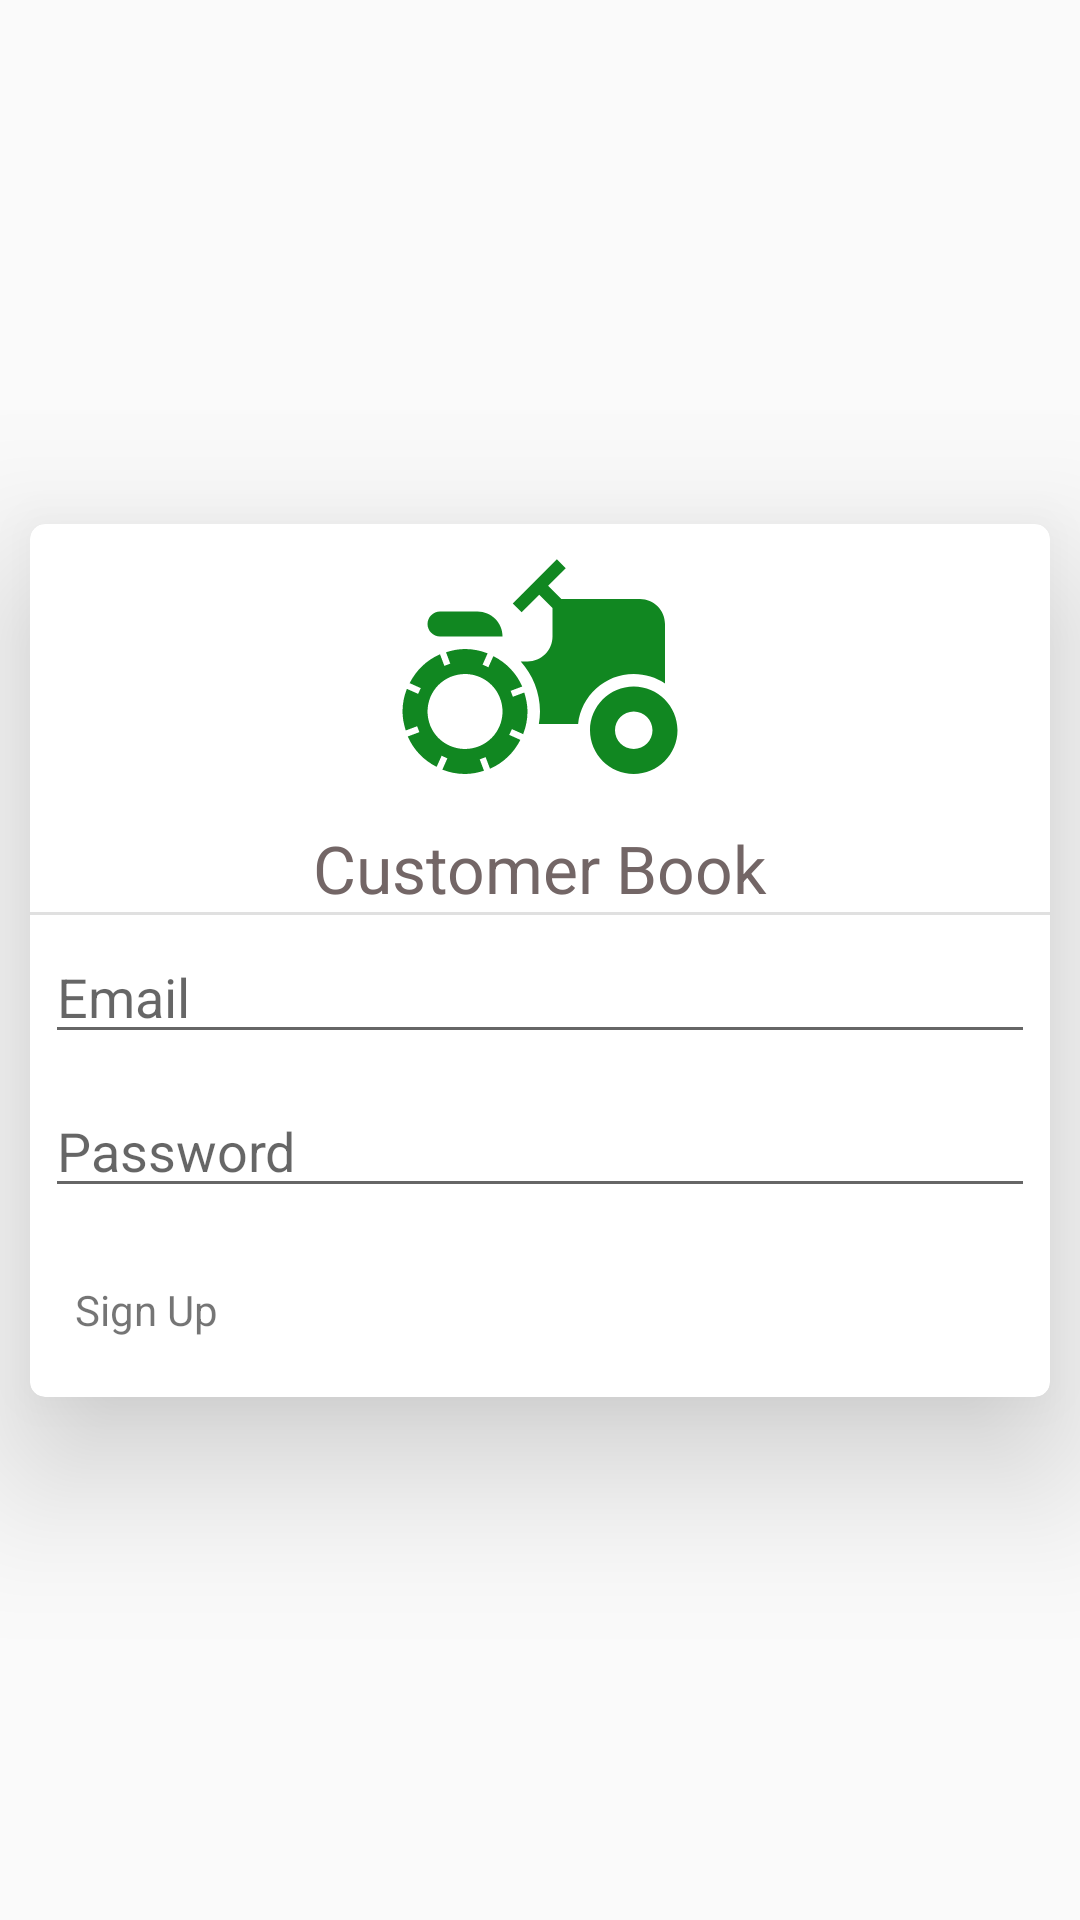

Named icons in this screenshot (1080px×1920px) and their bounding boxes, bbox(x1, y1, x2, y2):
agriculture: bbox(402, 559, 678, 774)
